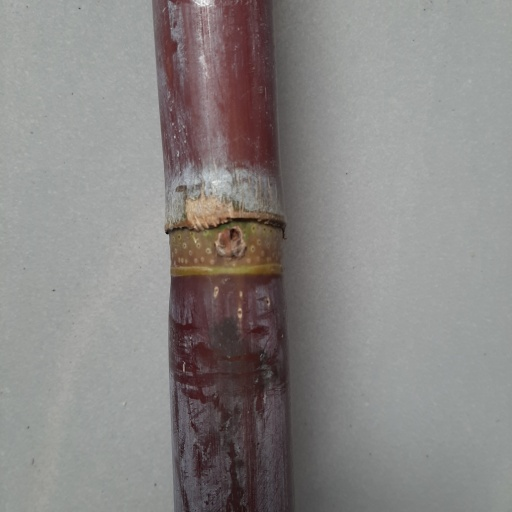Damage_Bud: (215, 226, 248, 260)
